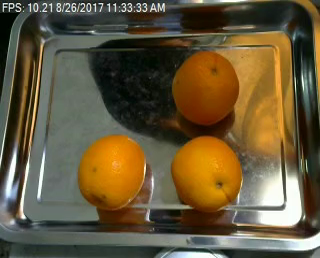Orange: (172, 136, 242, 212), (76, 135, 146, 210), (172, 51, 239, 124)
